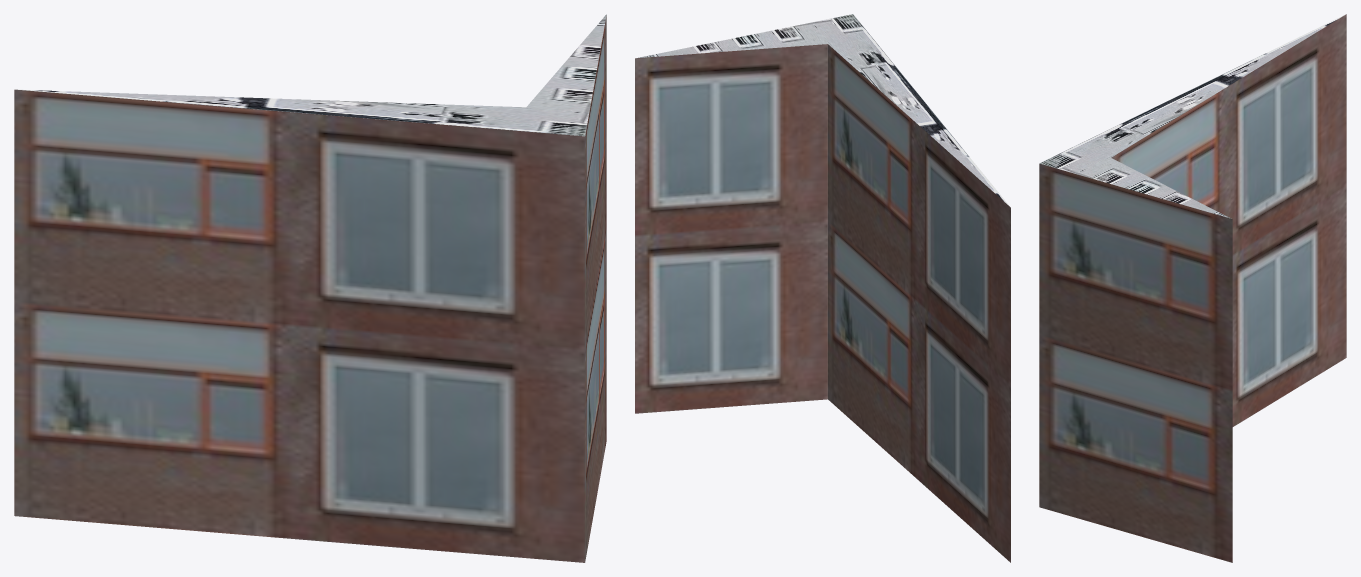
The model's file is ResTex__3908.fbx.
The picture shows the model from 3 angles, left to right: view 1: azimuth 30°, elevation 25°; view 2: azimuth 150°, elevation 25°; view 3: azimuth 270°, elevation 25°; orthographic projection. The views are drawn at different scales.
Parts seen in each view (by area): view 1: CityEngineMaterial_19_m, CityEngineMaterial_4_m; view 2: CityEngineMaterial_19_m, CityEngineMaterial_4_m; view 3: CityEngineMaterial_19_m, CityEngineMaterial_4_m.
Boxes of the visible parts, left/top/right/bottom form: CityEngineMaterial_19_m: left=14, top=16, right=606, bottom=562; CityEngineMaterial_4_m: left=18, top=14, right=606, bottom=136; CityEngineMaterial_19_m: left=635, top=44, right=1010, bottom=562; CityEngineMaterial_4_m: left=636, top=14, right=1009, bottom=206; CityEngineMaterial_19_m: left=1039, top=14, right=1346, bottom=562; CityEngineMaterial_4_m: left=1039, top=14, right=1345, bottom=218.
Bounding box in the file's own units: 7.68 × 6 × 4.86.
2 materials, 2 textured.
